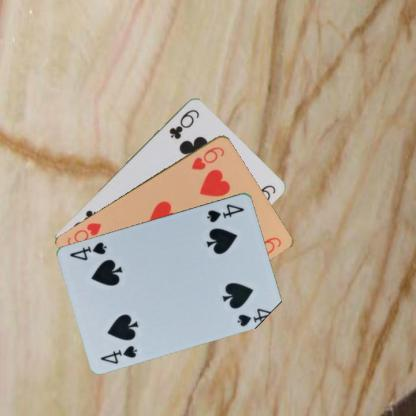4s: (204, 200, 246, 223), (98, 343, 139, 365)
6c: (166, 106, 202, 140)
6h: (188, 143, 226, 171)
